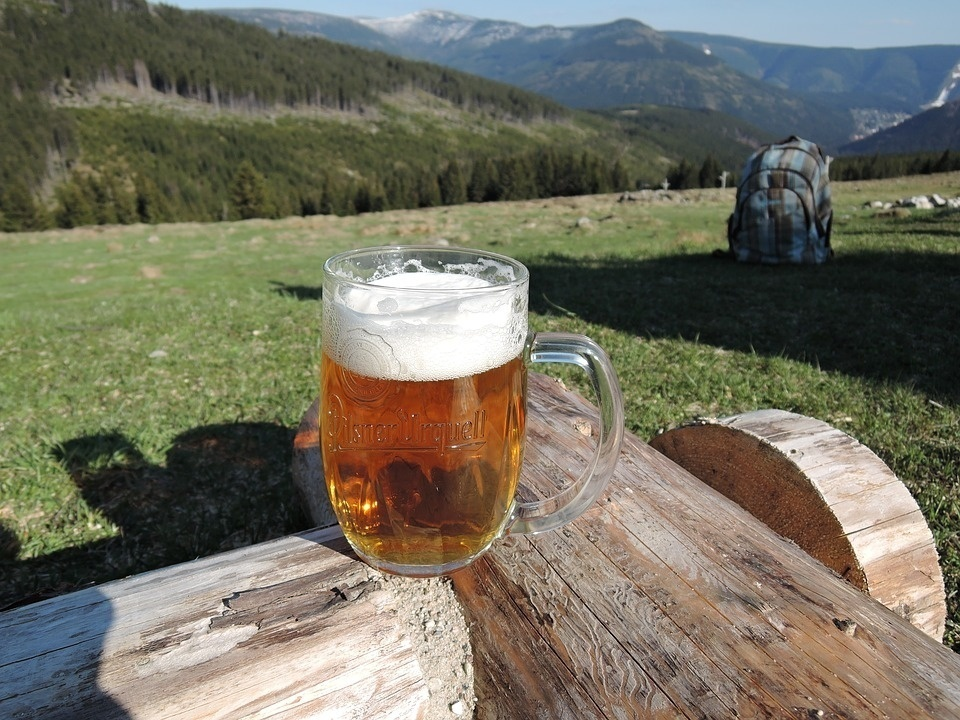whiskey: (317, 255, 537, 572)
